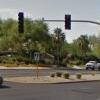Traffic light: (12, 7, 34, 40)
